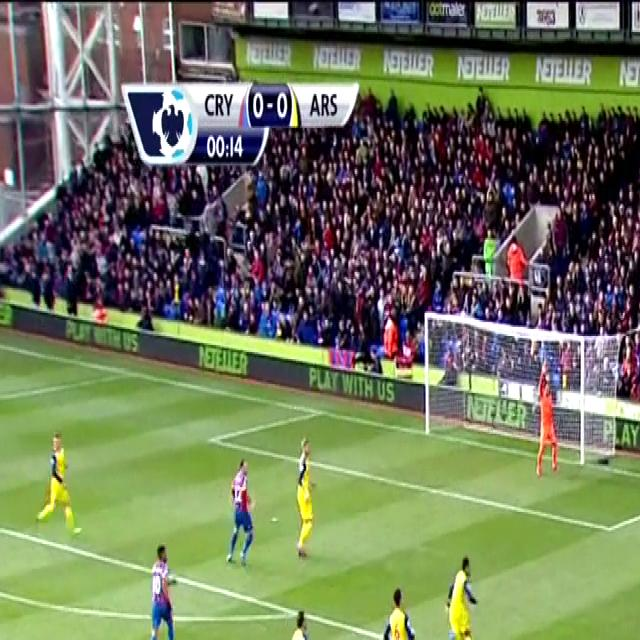goalkeeper: (532, 350, 562, 482)
soccer-player: (36, 419, 79, 542), (220, 450, 258, 578), (138, 530, 181, 640), (288, 422, 318, 560), (438, 554, 485, 640), (378, 579, 427, 640), (280, 601, 326, 640)
